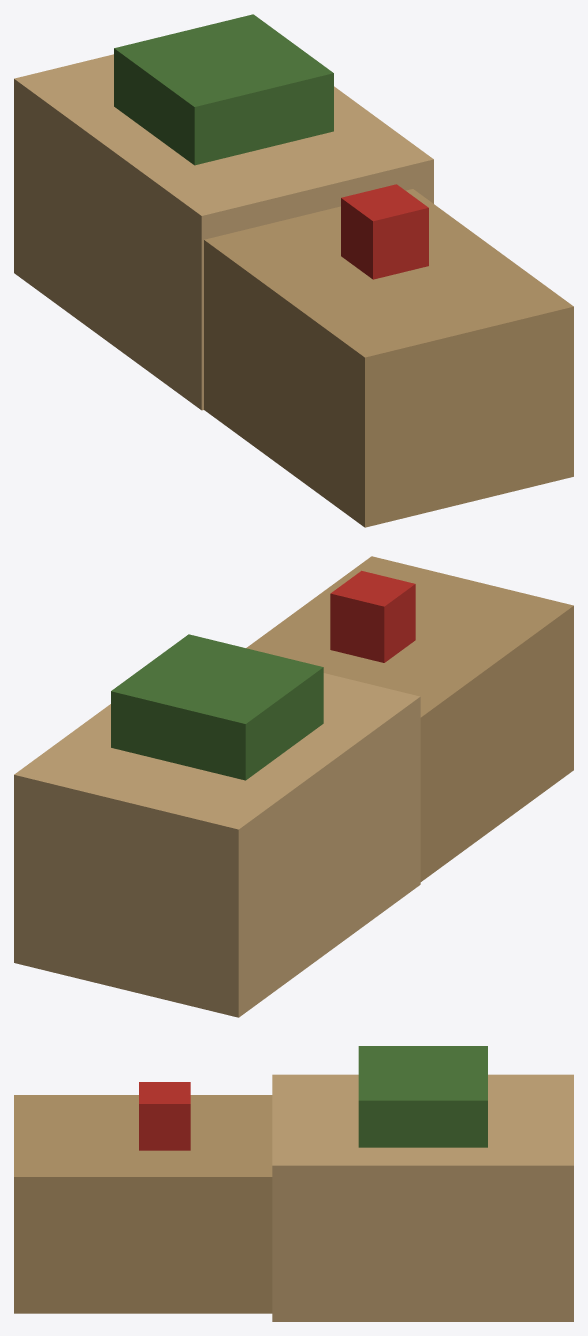
File: xmas.glb
3 renders of one model, top to bottom at view 1: azimuth 30°, elevation 25°; view 2: azimuth 150°, elevation 25°; view 3: azimuth 270°, elevation 25°, orthographic. The views are drawn at different scales.
Parts seen in each view (by area): view 1: Box2, Box1, Box3, Box4; view 2: Box1, Box2, Box3, Box4; view 3: Box1, Box2, Box3, Box4.
Part boxes in pixels (<box>): Box2: <box>204,189,573,527</box>; Box1: <box>14,54,433,410</box>; Box3: <box>114,14,333,165</box>; Box4: <box>341,184,428,279</box>; Box1: <box>14,673,420,1017</box>; Box2: <box>246,556,573,881</box>; Box3: <box>111,634,323,780</box>; Box4: <box>330,570,415,662</box>; Box1: <box>272,1074,573,1321</box>; Box2: <box>14,1095,272,1313</box>; Box3: <box>358,1046,487,1147</box>; Box4: <box>139,1082,190,1150</box>.
Size of the model in its own units: 0.5 by 0.52 by 1.3.
